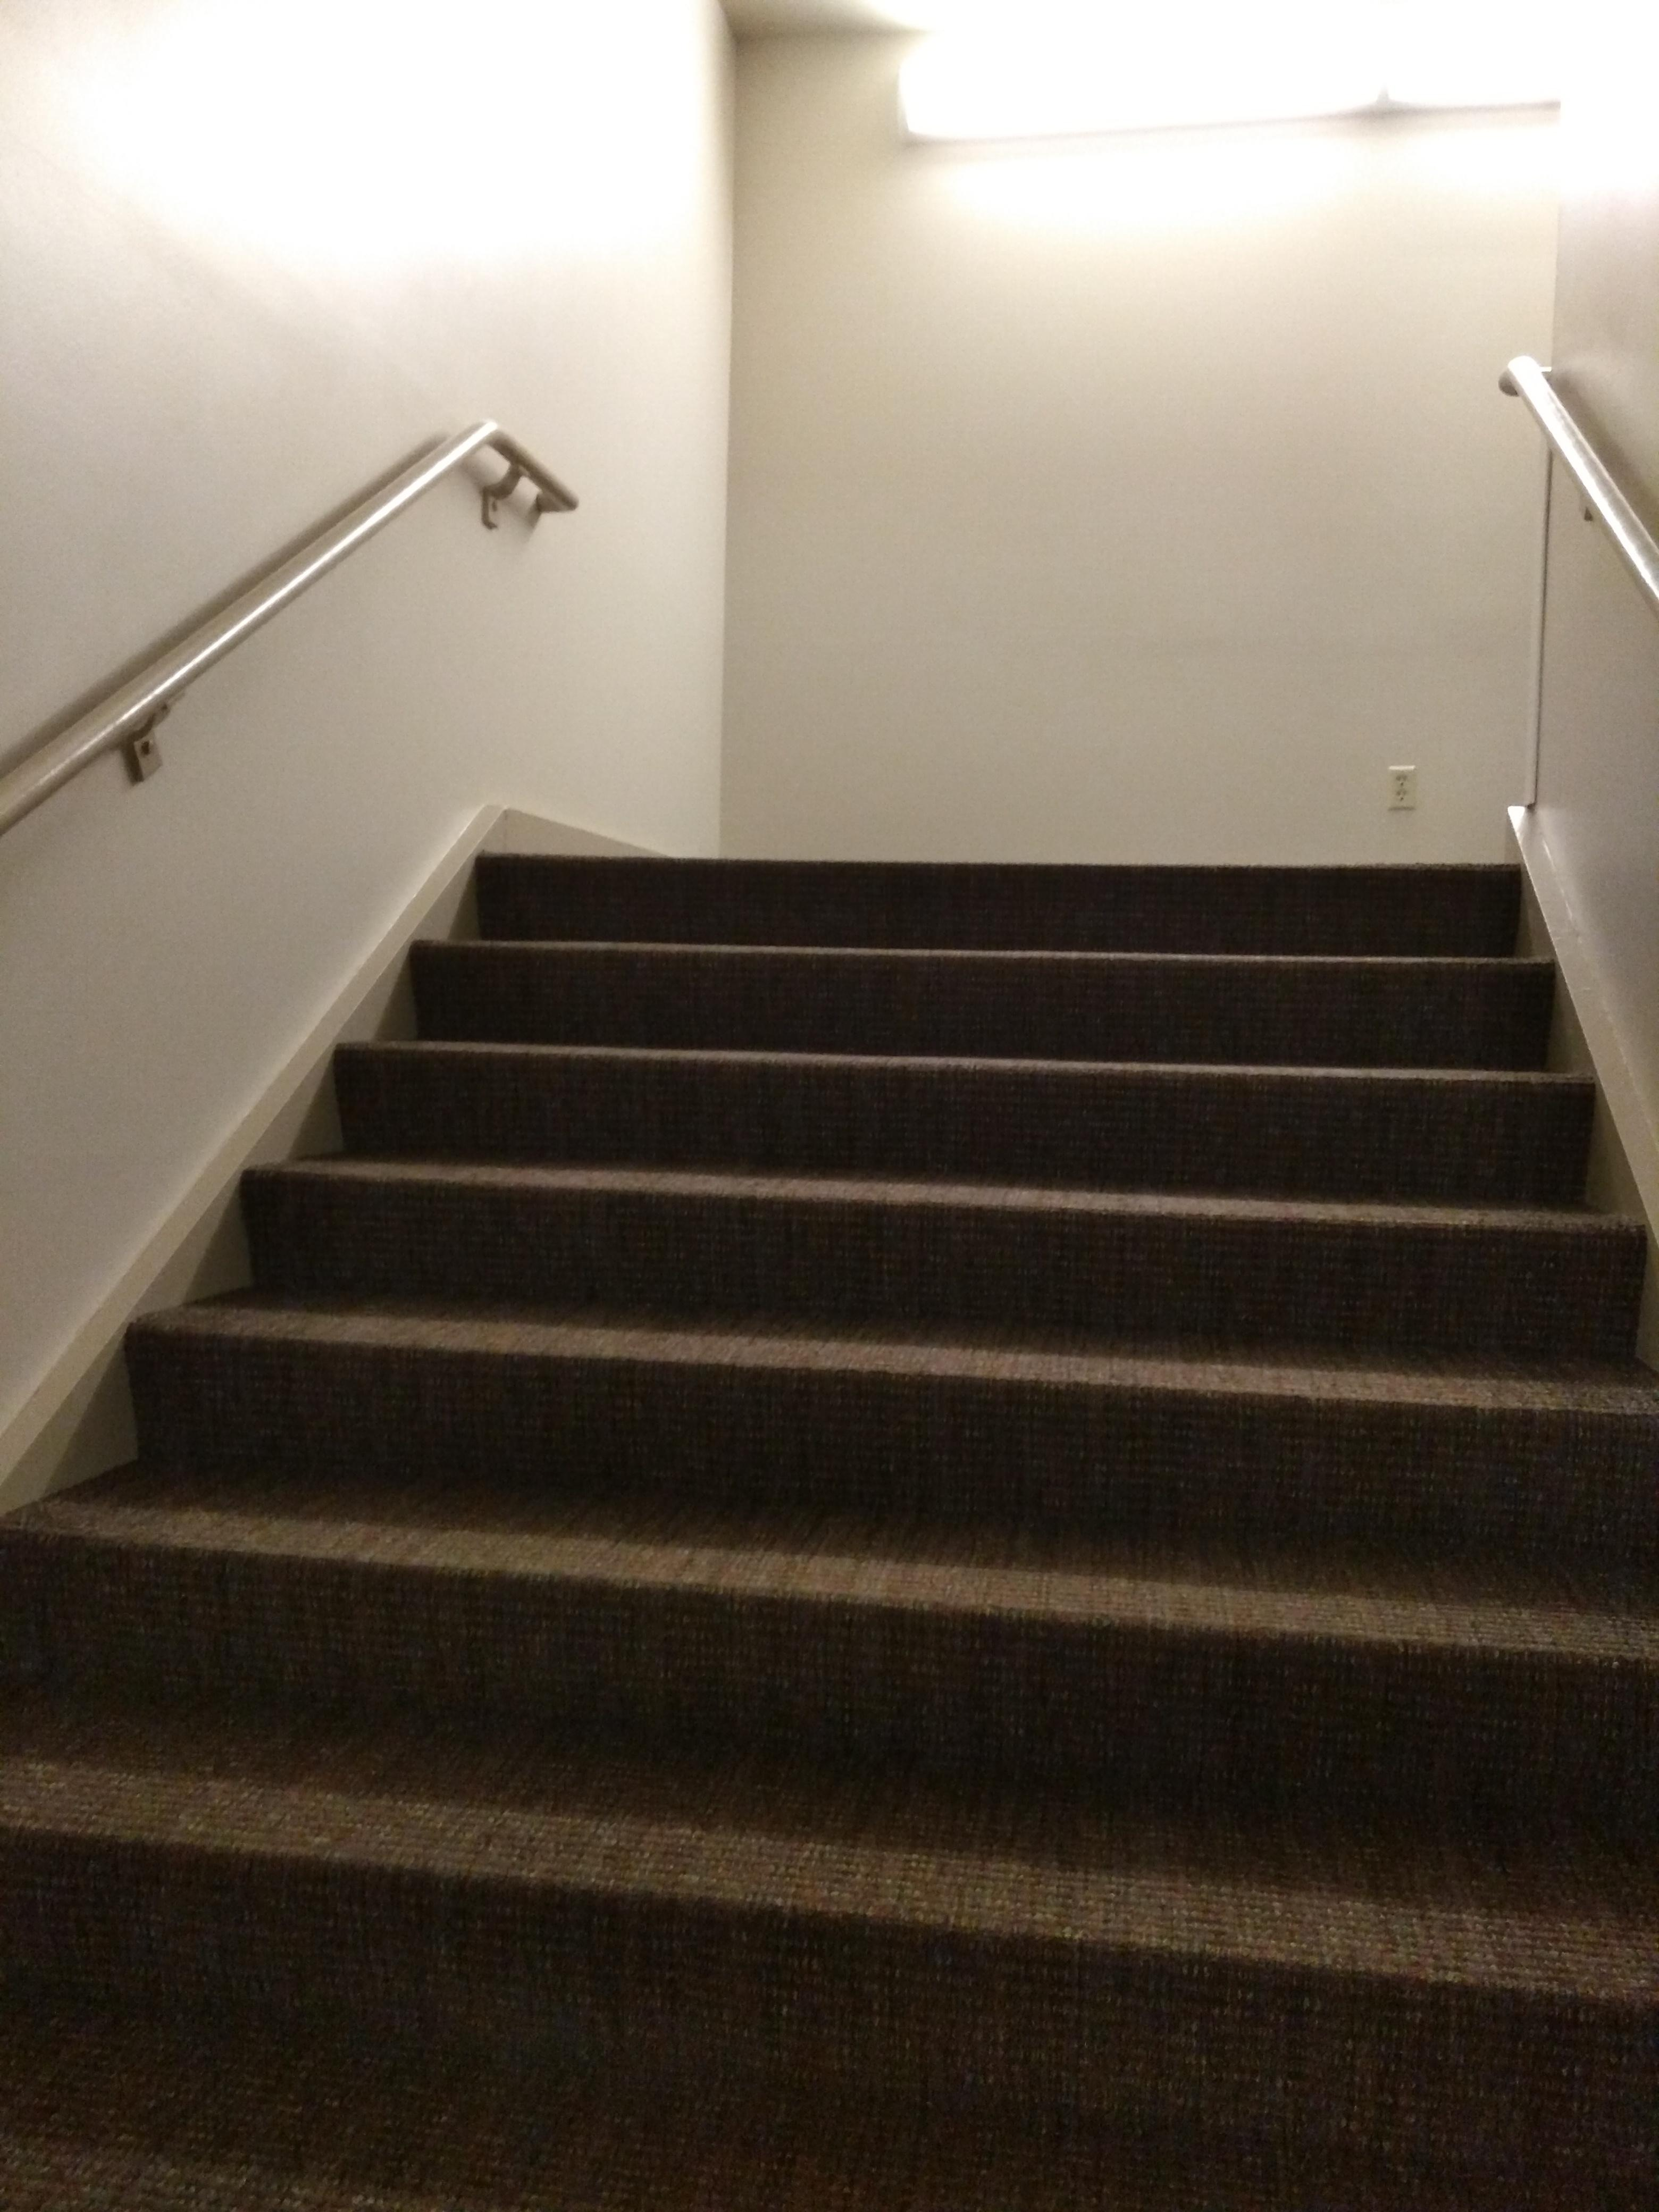stairs_up: (9, 824, 1659, 2040)
